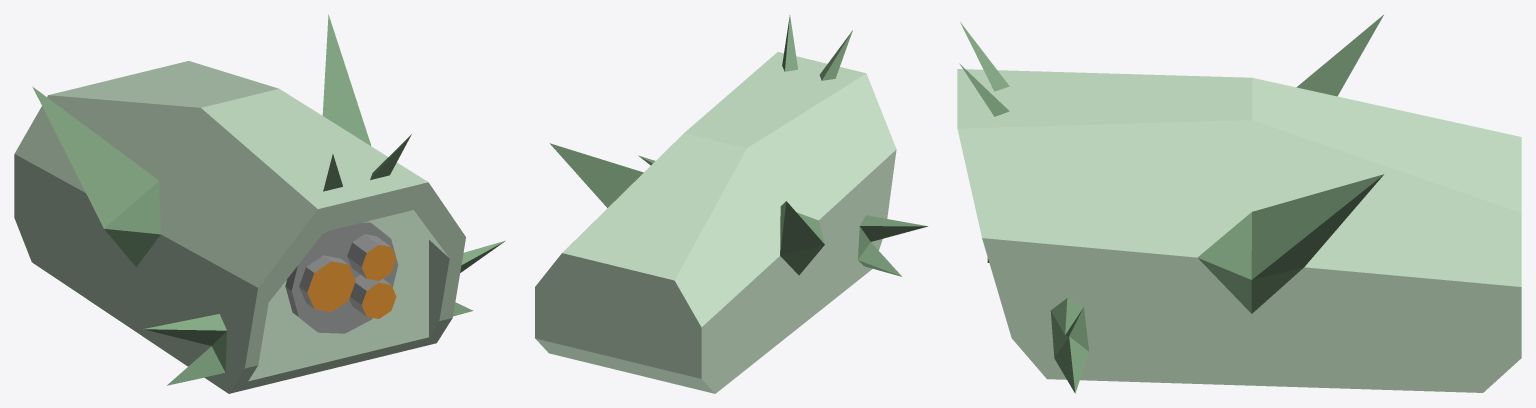
Rendered from sylph head v2.glb.
3 renders of one model, left to right at view 1: azimuth 30°, elevation 25°; view 2: azimuth 150°, elevation 25°; view 3: azimuth 270°, elevation 25°, orthographic. The views are drawn at different scales.
Visible parts, largest first — view 1: Head backup; view 2: Head backup; view 3: Head backup.
Part boxes in pixels (x1,y1,x2,y2): Head backup: (14, 14, 505, 393); Head backup: (535, 15, 927, 393); Head backup: (957, 15, 1521, 393).
Bounding box in the file's own units: 0.6092 × 0.4264 × 0.7389.
Materials: 2 (2 with a texture image).
